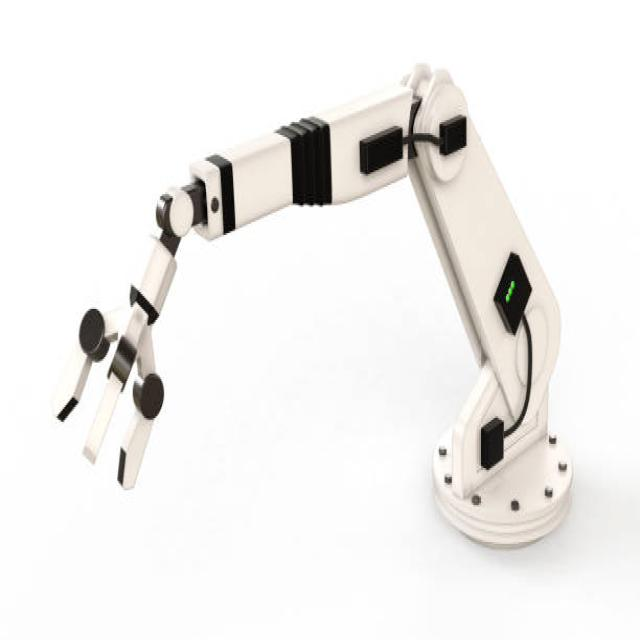Robotic-arm: (52, 56, 577, 559)
